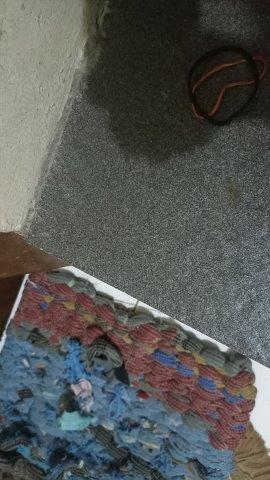karet: (187, 46, 268, 127)
